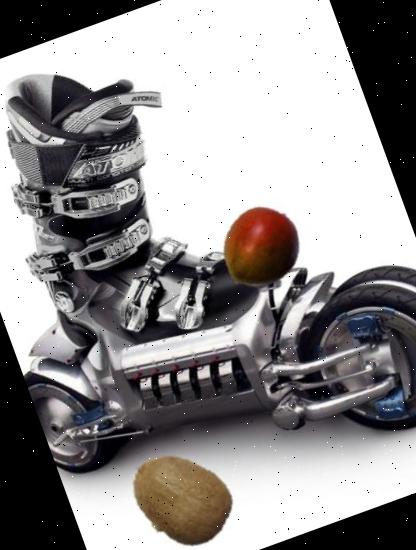Kiwi: (110, 426, 250, 550)
Mango: (206, 194, 315, 302)
